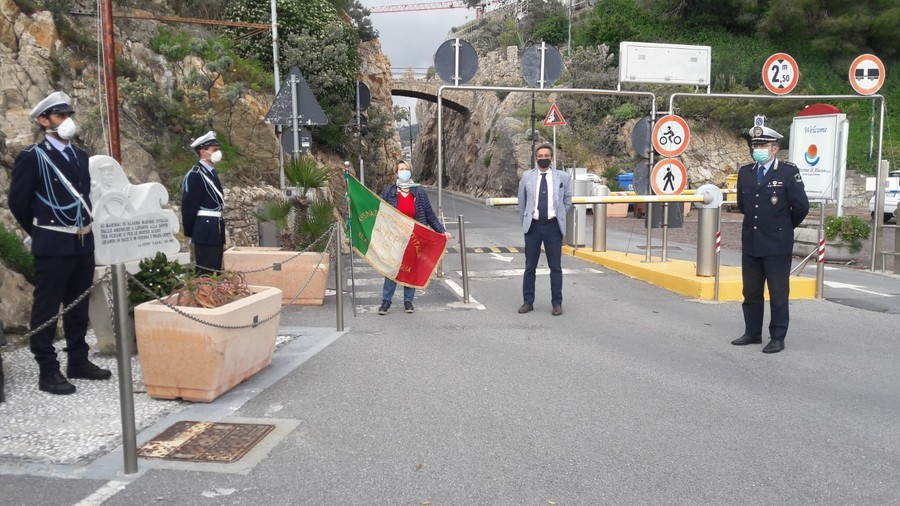Flag: (341, 172, 449, 292)
